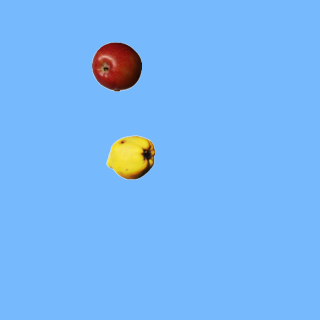Apple Braeburn: (91, 41, 141, 91)
Quince: (105, 132, 155, 182)
